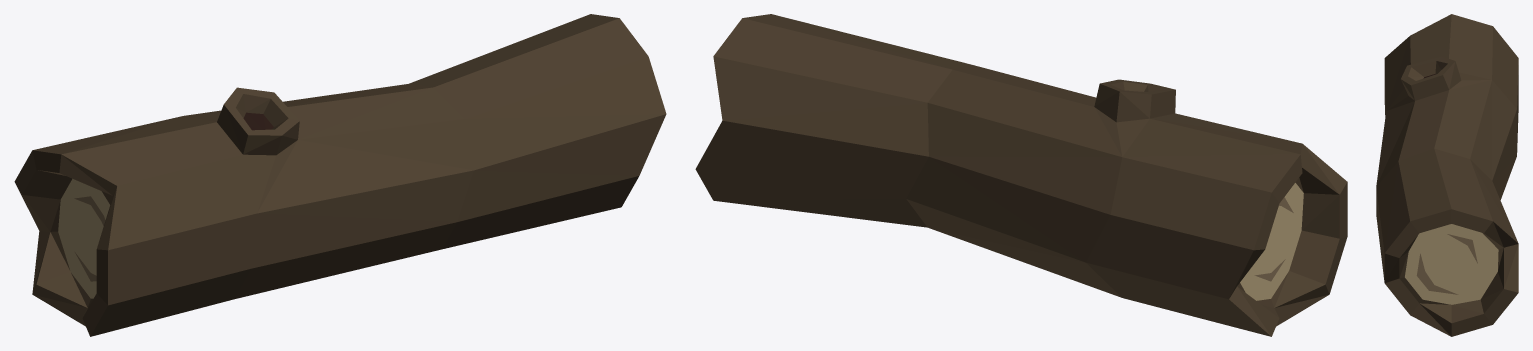
Rendered from tree_log.glb.
3 views of the same model, side by side, from view 1: azimuth 30°, elevation 25°; view 2: azimuth 150°, elevation 25°; view 3: azimuth 270°, elevation 25° (orthographic). The views are drawn at different scales.
Visible parts, largest first — view 1: SM_Env_TreeLog_01; view 2: SM_Env_TreeLog_01; view 3: SM_Env_TreeLog_01.
Part boxes in pixels (bbox=[...]): SM_Env_TreeLog_01: bbox=[14, 14, 666, 336]; SM_Env_TreeLog_01: bbox=[695, 14, 1347, 336]; SM_Env_TreeLog_01: bbox=[1376, 14, 1518, 336].
Size of the model in its own units: 257 by 87.48 by 78.92.
1 material, 1 textured.
